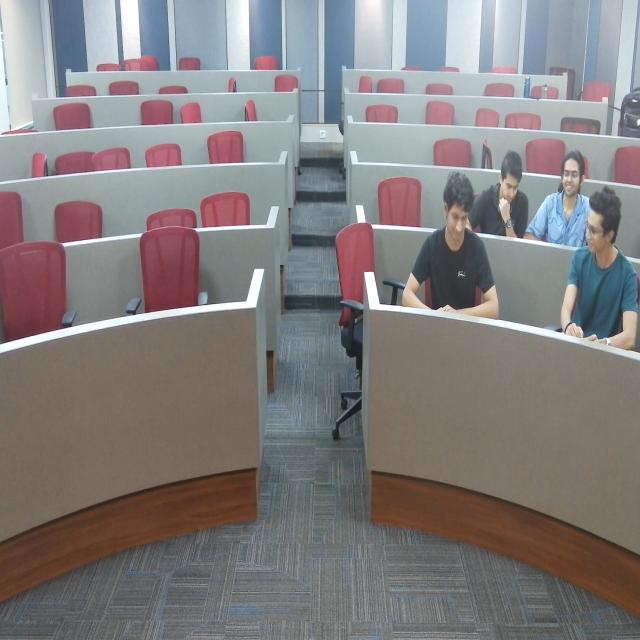cheating: (558, 187, 640, 363), (477, 147, 540, 247), (547, 146, 586, 250)
non-cheating: (413, 171, 498, 325)
